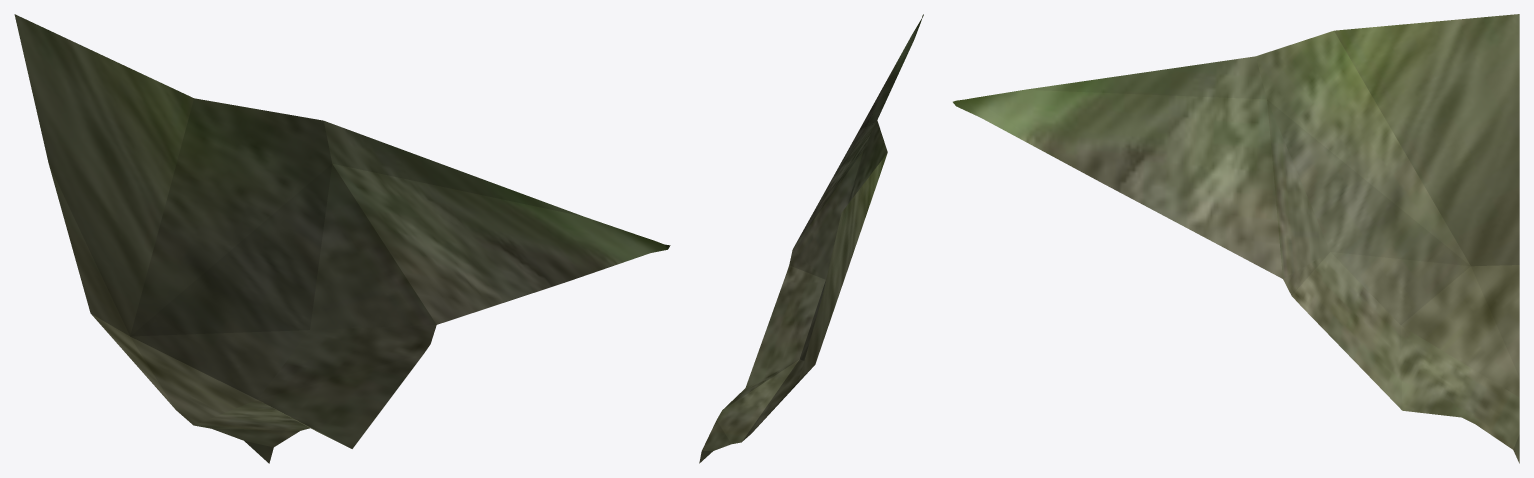
The picture shows the model from 3 angles, left to right: view 1: azimuth 30°, elevation 25°; view 2: azimuth 150°, elevation 25°; view 3: azimuth 270°, elevation 25°; orthographic projection. The views are drawn at different scales.
Bounding box in the file's own units: 0.801 × 1.54 × 2.18.
Materials: 1 (1 with a texture image).
